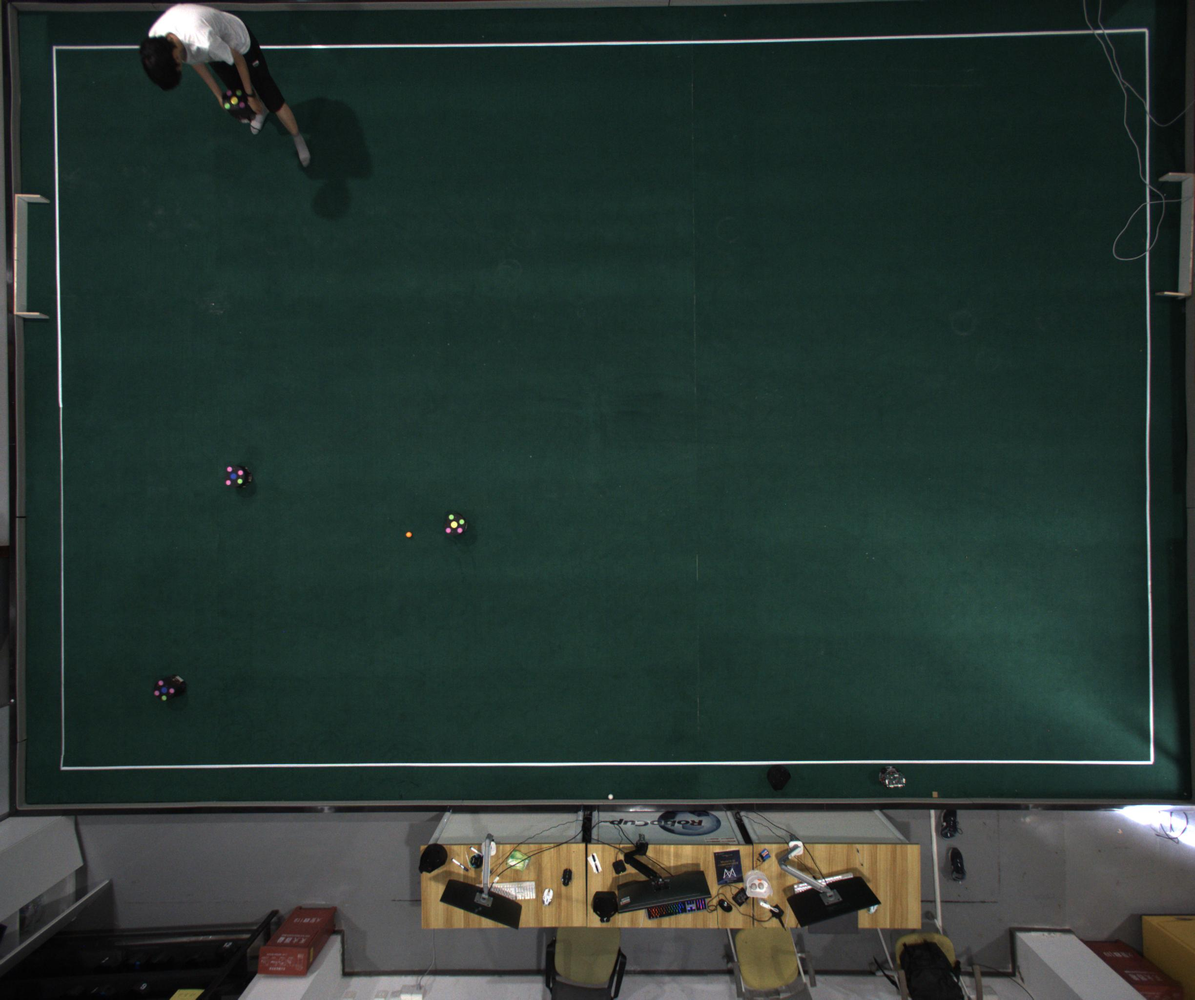ball: (406, 531, 413, 539)
blue_bot: (152, 679, 177, 702), (224, 465, 246, 488)
yellow_bot: (444, 513, 466, 537)
